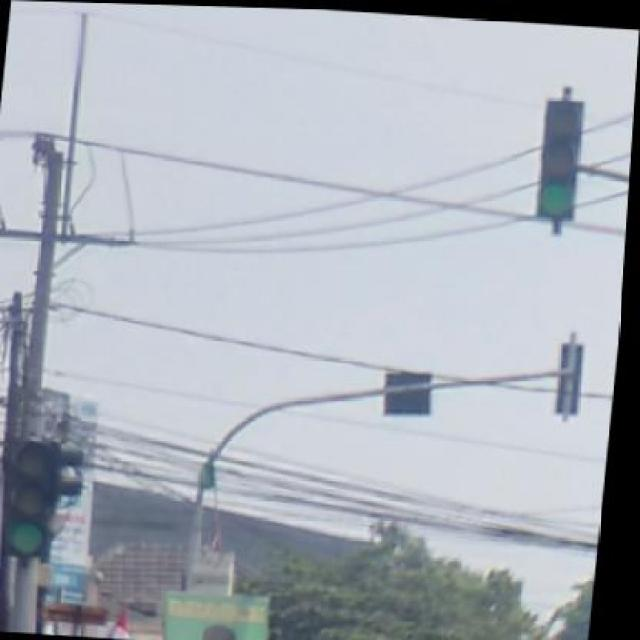green_light: (8, 434, 67, 561), (533, 98, 587, 224)
